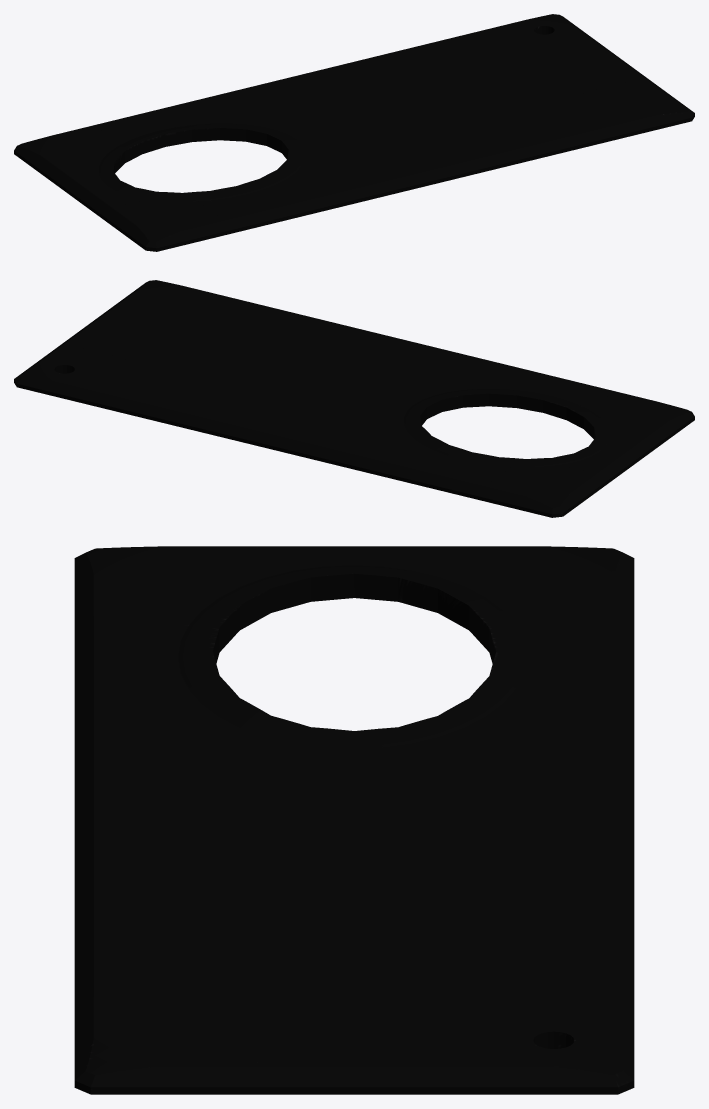
Rendered from LeguLeteron_Main_Control_Case_Cover.fbx.
The picture shows the model from 3 angles, top to bottom: view 1: azimuth 30°, elevation 25°; view 2: azimuth 150°, elevation 25°; view 3: azimuth 270°, elevation 25°; orthographic projection. The views are drawn at different scales.
Visible parts, largest first — view 1: node_id760; view 2: node_id760; view 3: node_id760.
Part boxes in pixels (bbox=[...]): node_id760: bbox=[14, 14, 694, 251]; node_id760: bbox=[14, 280, 694, 517]; node_id760: bbox=[74, 546, 634, 1094].
Bounding box in the file's own units: 2.34 × 0.0522 × 1.03.
Materials: 1 (1 with a texture image).
